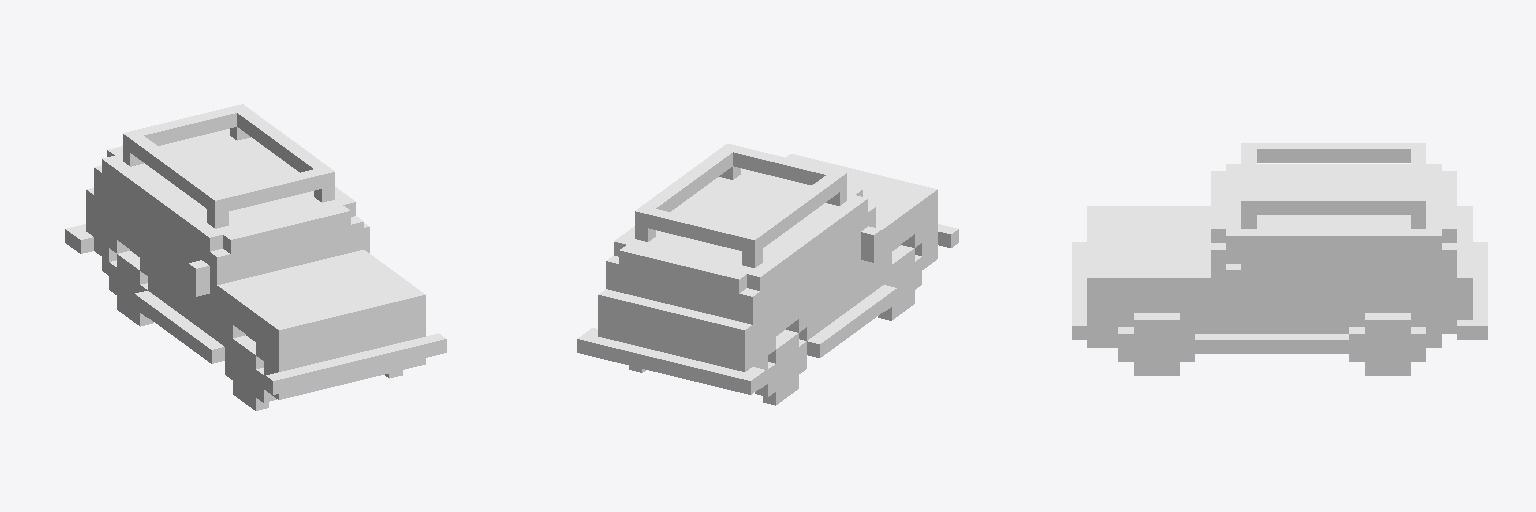
File: start_end-30.obj
3 views of the same model, side by side, from view 1: azimuth 30°, elevation 25°; view 2: azimuth 150°, elevation 25°; view 3: azimuth 270°, elevation 25° (orthographic).
Parts seen in each view (by area): view 1: object 1; view 2: object 1; view 3: object 1.
Boxes of the visible parts, x1=… form: object 1: x1=65, y1=104, x2=446, y2=410; object 1: x1=577, y1=144, x2=958, y2=405; object 1: x1=1072, y1=143, x2=1487, y2=375.
Bounding box in the file's own units: 1.3 × 1.2 × 2.7.